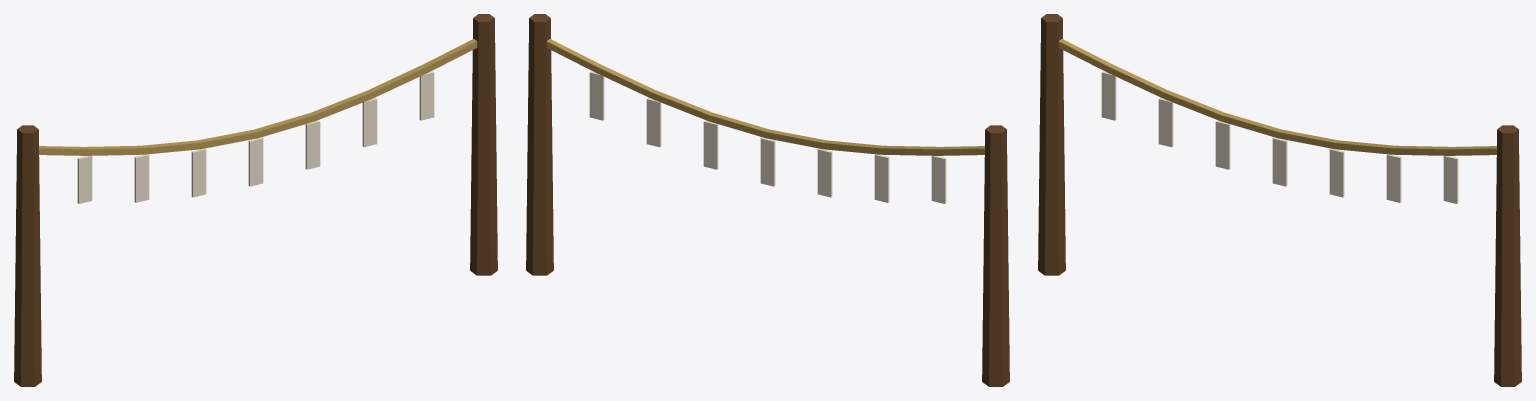
Rendered from prop_geumjul.glb.
3 renders of one model, left to right at view 1: azimuth 30°, elevation 25°; view 2: azimuth 150°, elevation 25°; view 3: azimuth 330°, elevation 25°, orthographic.
Visible parts, largest first — view 1: prop_geumjul; view 2: prop_geumjul; view 3: prop_geumjul.
Boxes of the visible parts, box(x1,y1,x2,y2) form: prop_geumjul: box(14, 14, 497, 386); prop_geumjul: box(526, 14, 1009, 386); prop_geumjul: box(1038, 14, 1521, 386).
Size of the model in its own units: 3.56 by 1.8 by 0.18.
